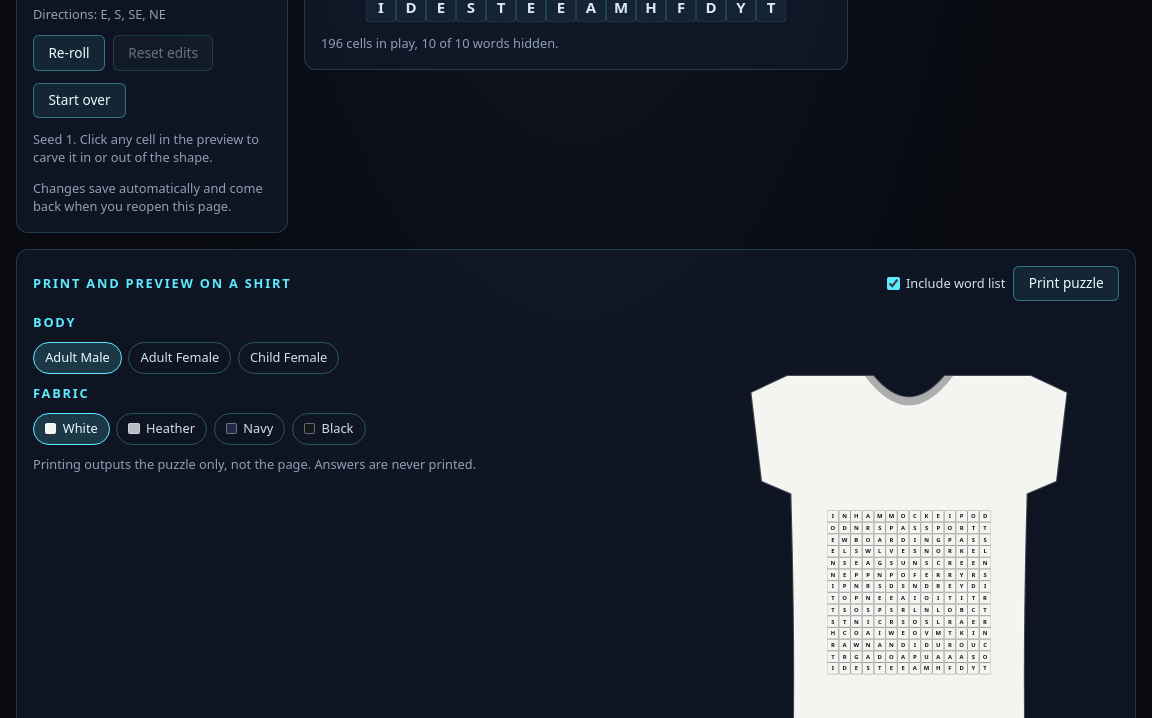
Test case: printing and the shirt mockup › renders a shirt for each body type
(page scrolled)
Click the button "Adult male". click: (77, 358)
box: [33, 342, 122, 374]
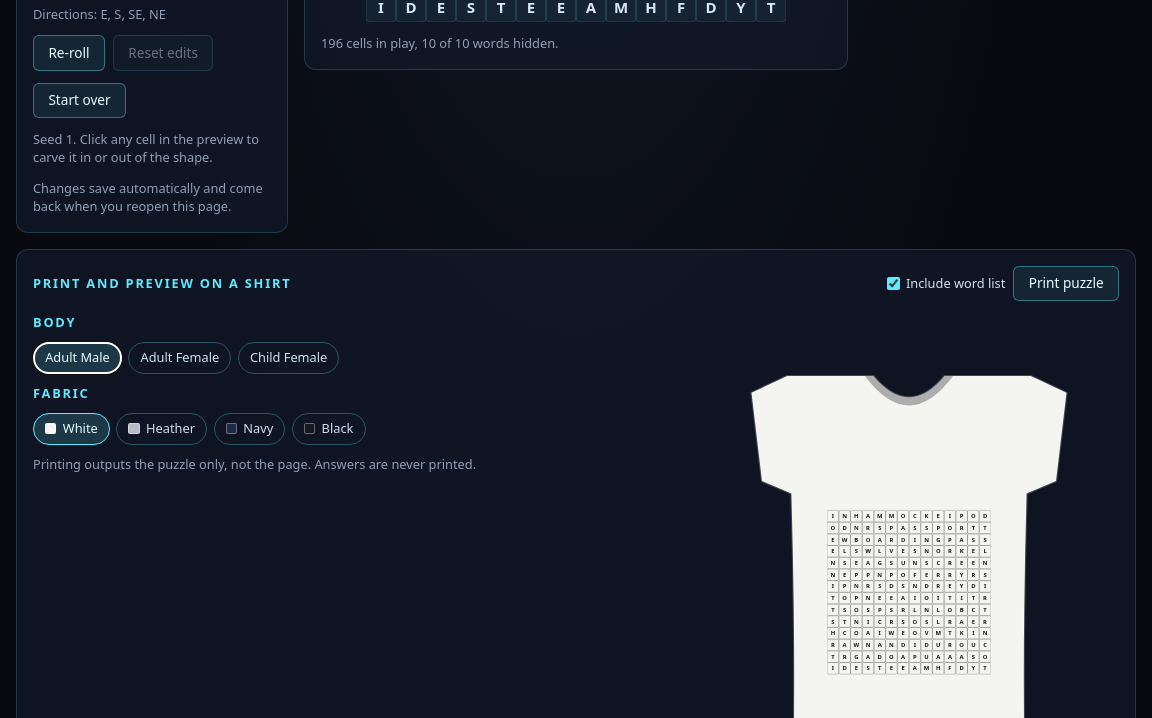
Click the button "Adult female". click: (180, 358)
box: [128, 342, 231, 374]
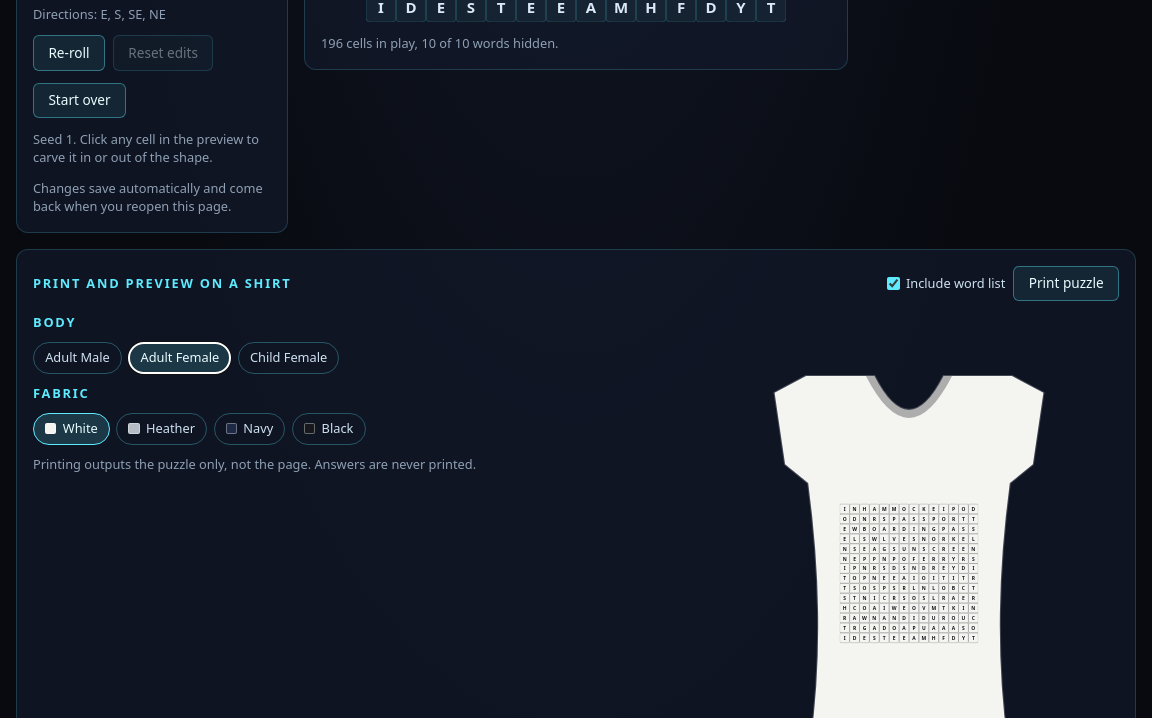
Click the button "Child female". click: (289, 358)
box: [238, 342, 340, 374]
(page scrolled)
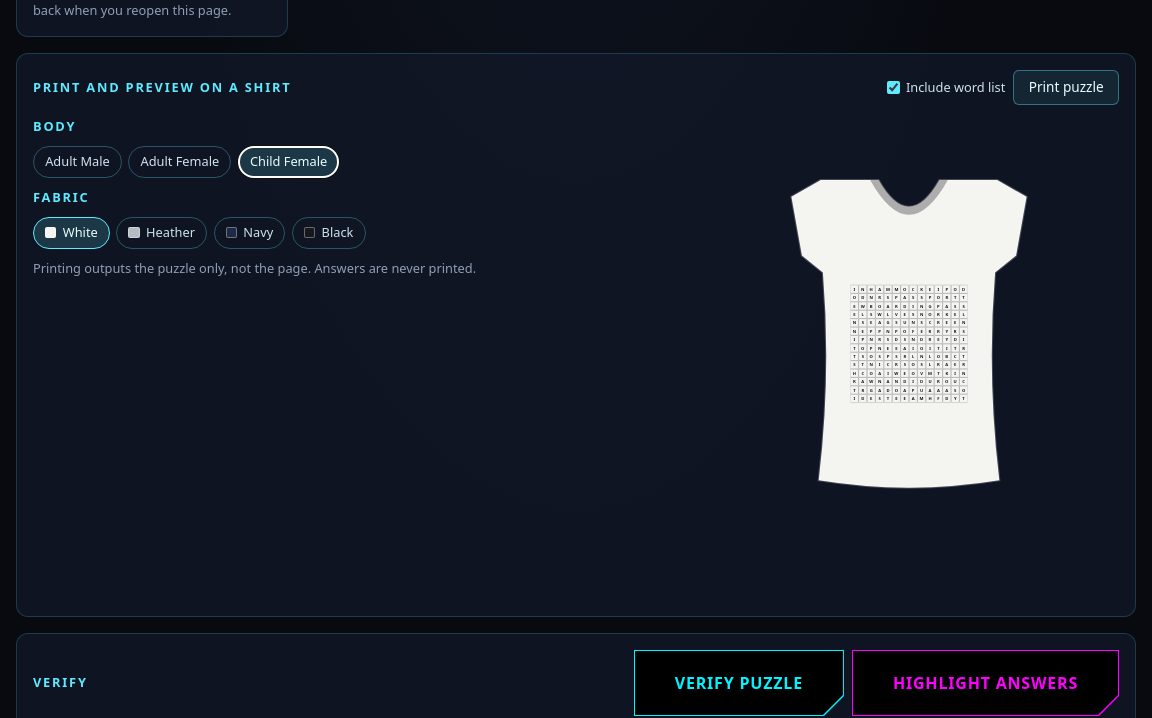
Expected: the picture named "Child female" is shown, [699, 117, 1119, 600]
